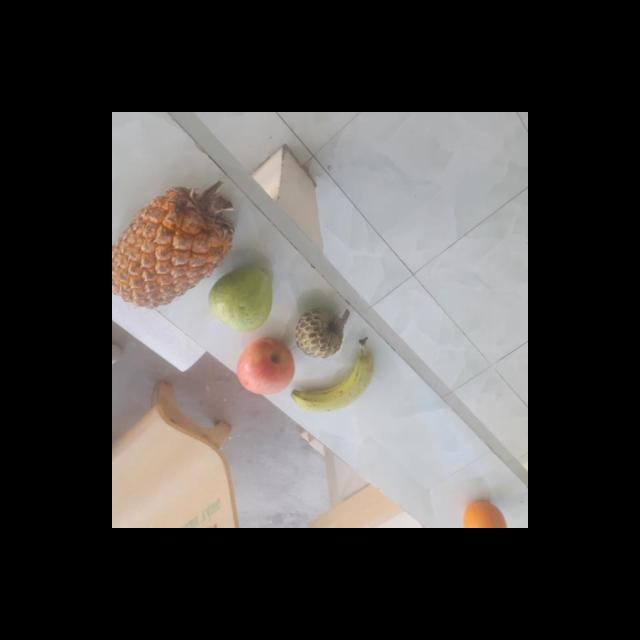Sakya fruit: (292, 306, 346, 360)
apple: (235, 338, 296, 396)
banana: (286, 338, 376, 412)
guava: (205, 264, 272, 332)
pineapple: (112, 180, 236, 304)
